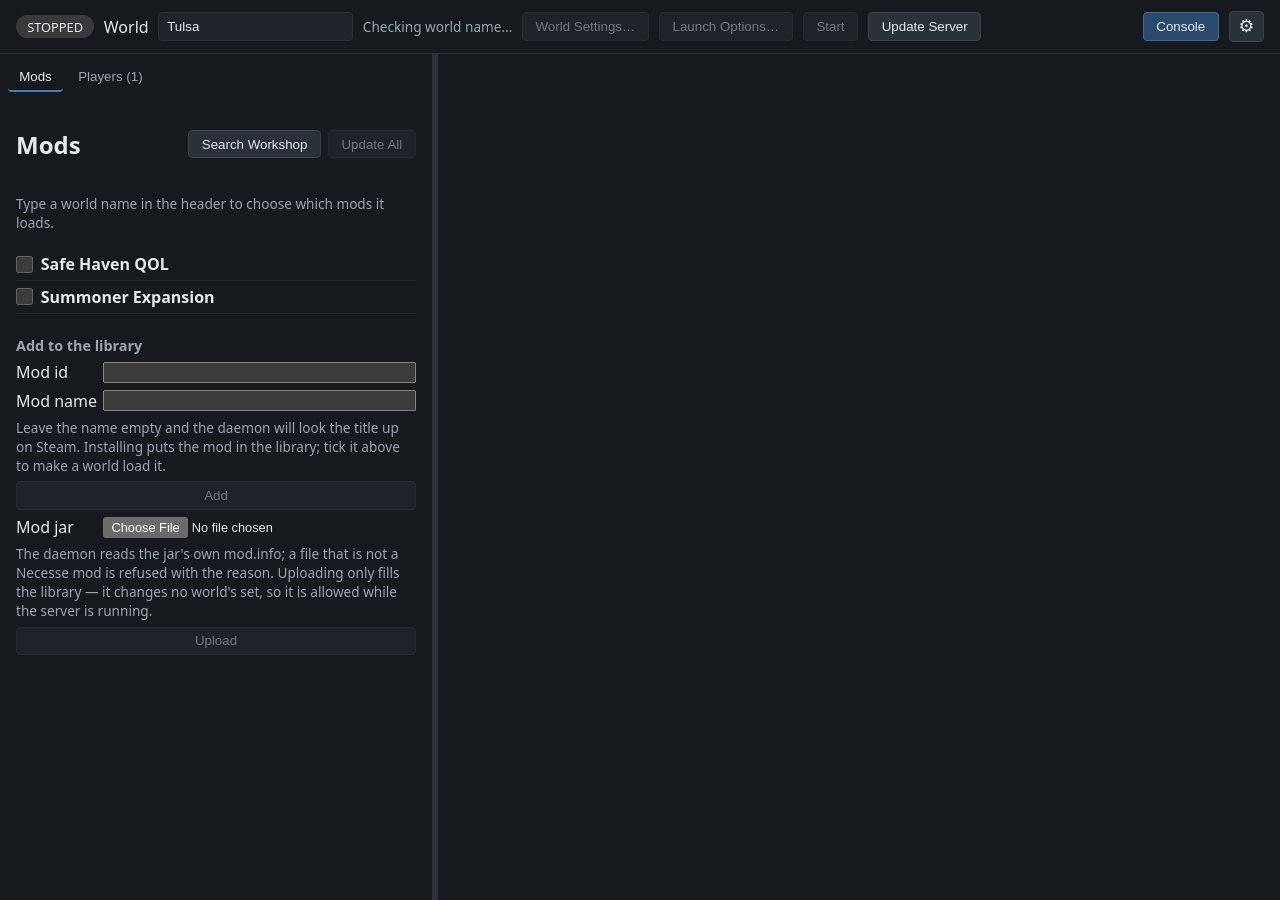
Test: App players tab › shows the roster the daemon pushed, without losing the mods panel
Expected: the button "Update Server" is shown, x1=868 y1=12 x2=981 y2=41
Click the tab "Players (1)" at (110, 77), box x1=67 y1=62 x2=154 y2=92
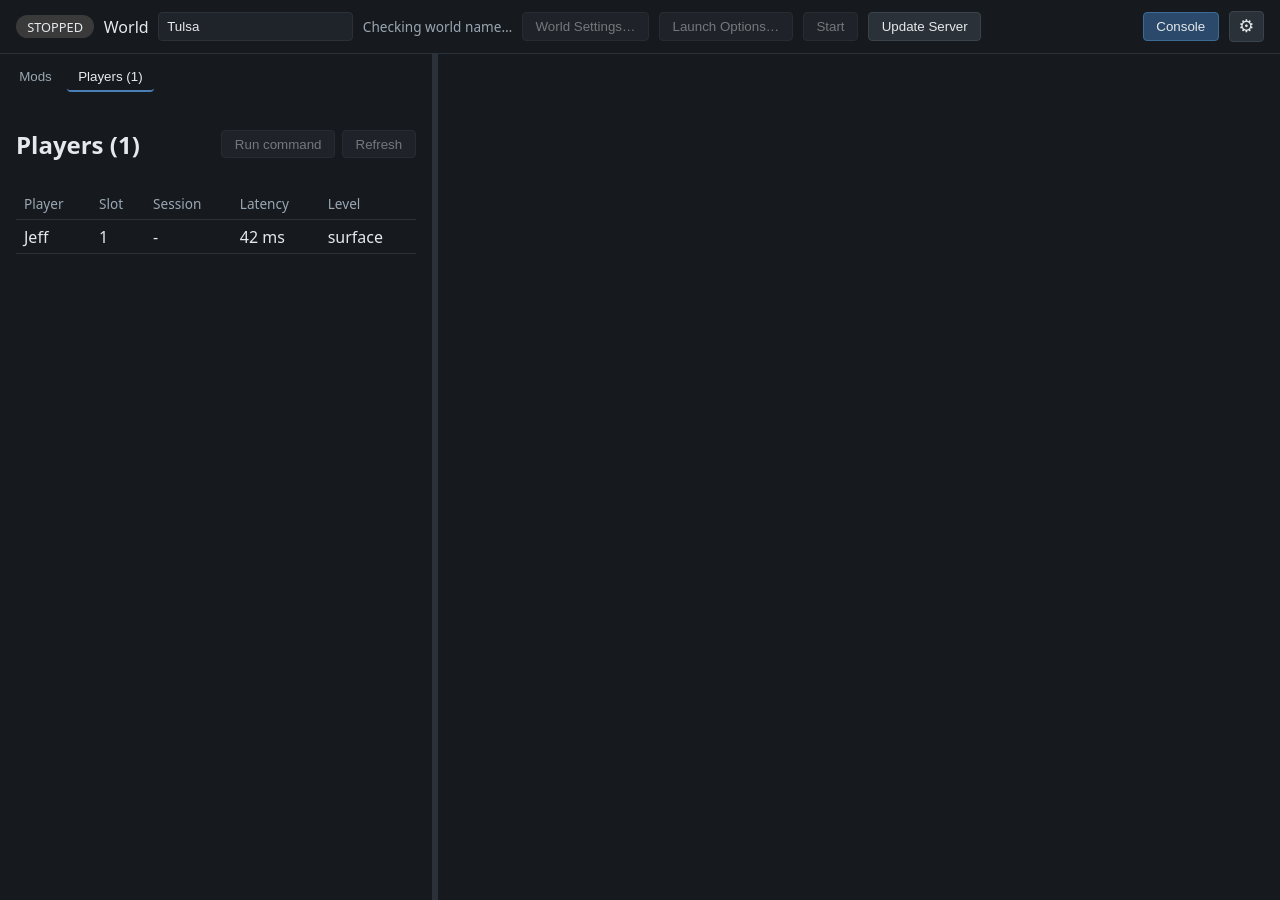
Now the text "Jeff" is shown, box x1=16 y1=219 x2=91 y2=254
Switching back must not have thrown away the mods panel's own state.
Click the tab "Mods" at (36, 77), box x1=8 y1=62 x2=63 y2=92
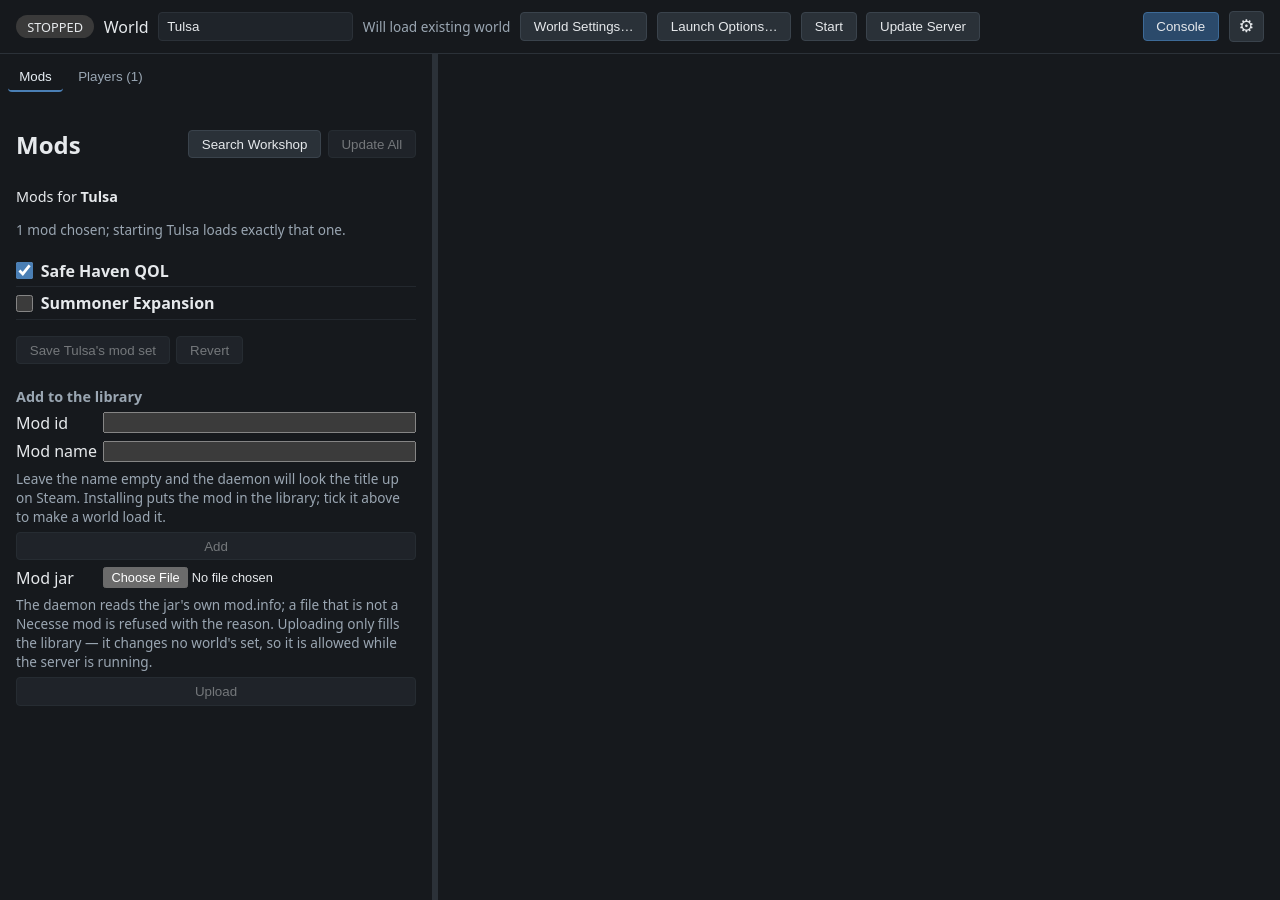
Now the heading "Mods" is shown, box x1=16 y1=128 x2=81 y2=161
